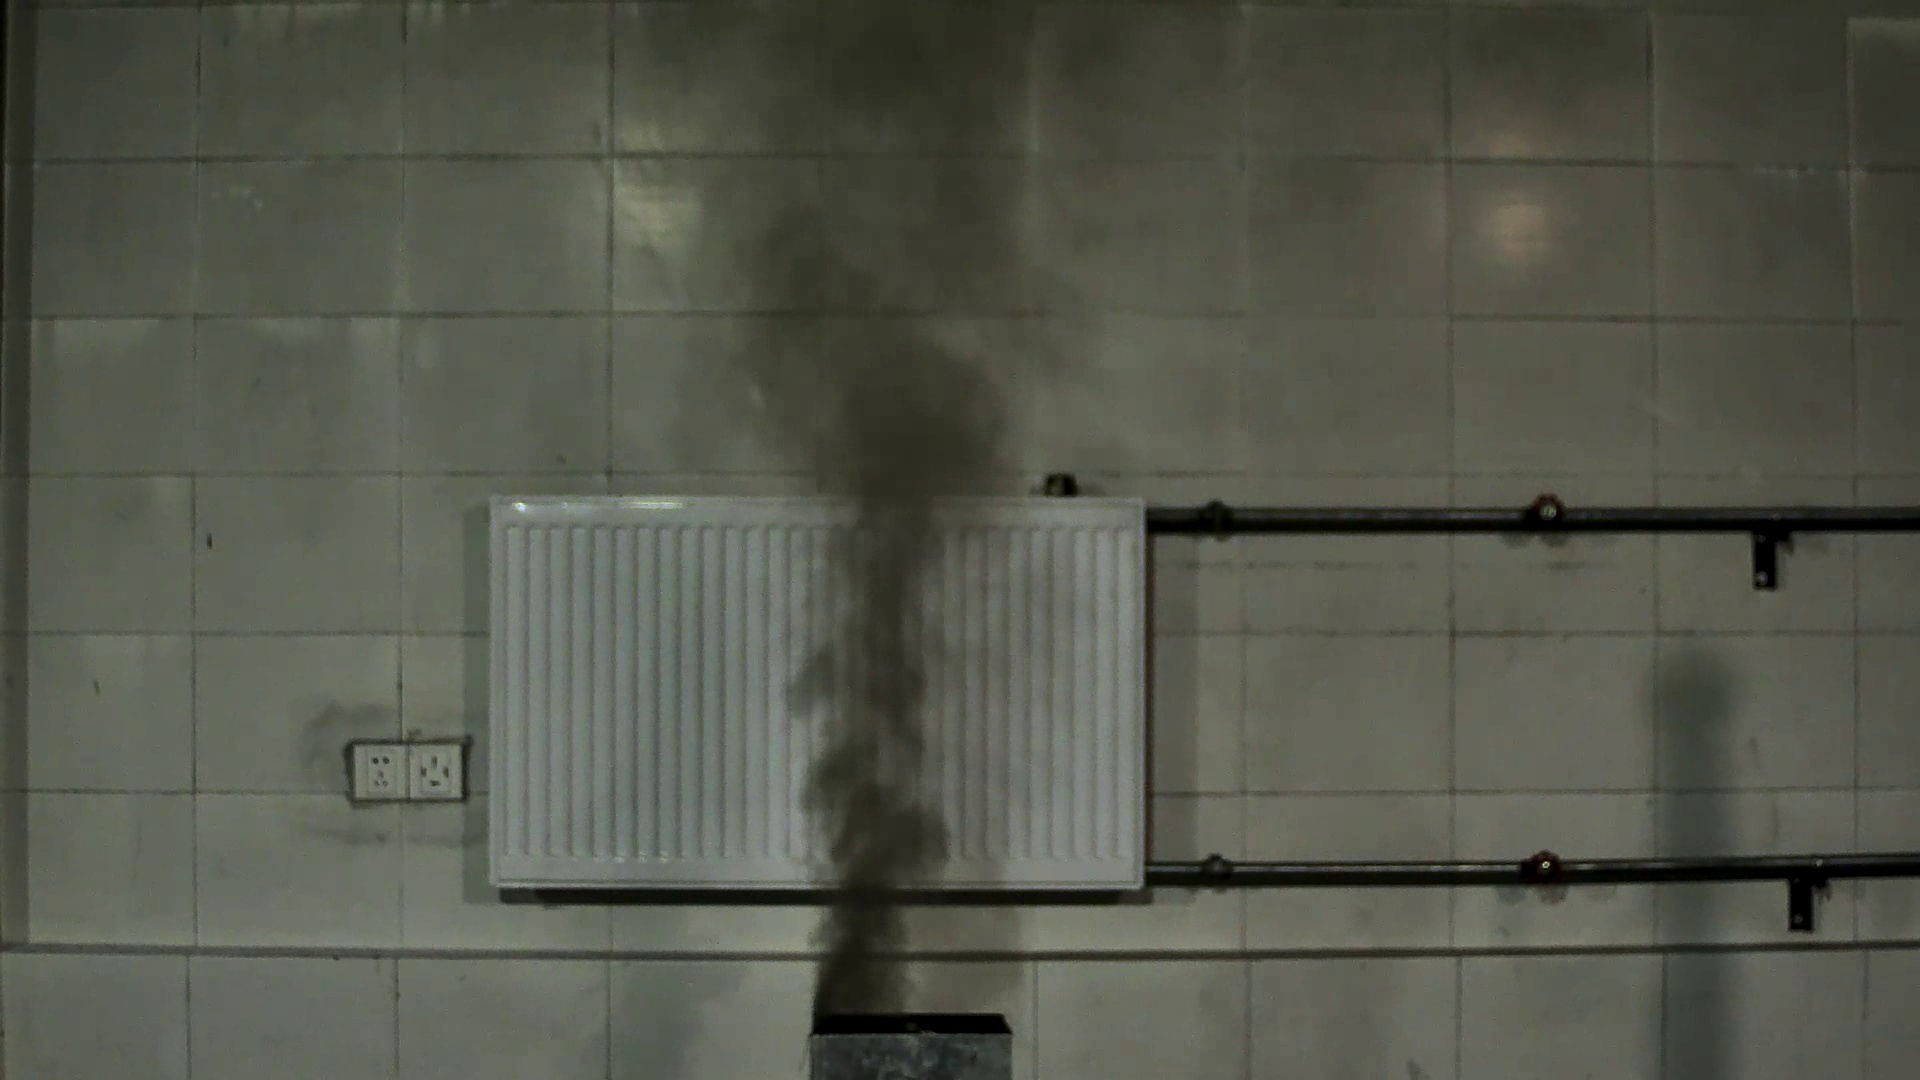smoke: (679, 270, 1029, 1001)
